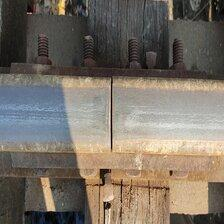railway-gap: (58, 68, 166, 169)
